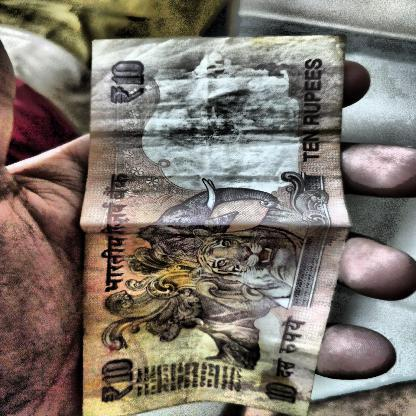Rs10: (104, 57, 156, 110), (94, 358, 139, 406), (263, 376, 302, 410)
